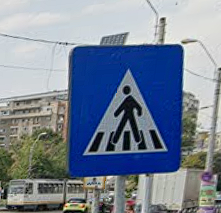trecere_pietoni: (65, 41, 186, 179)
